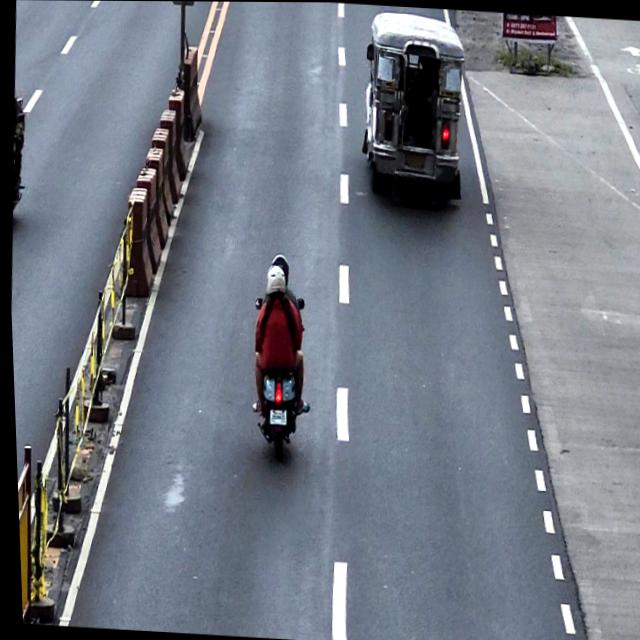Jeep: (354, 9, 472, 203)
License-Plate: (265, 405, 284, 426)
Motorcycle: (243, 292, 314, 462)
